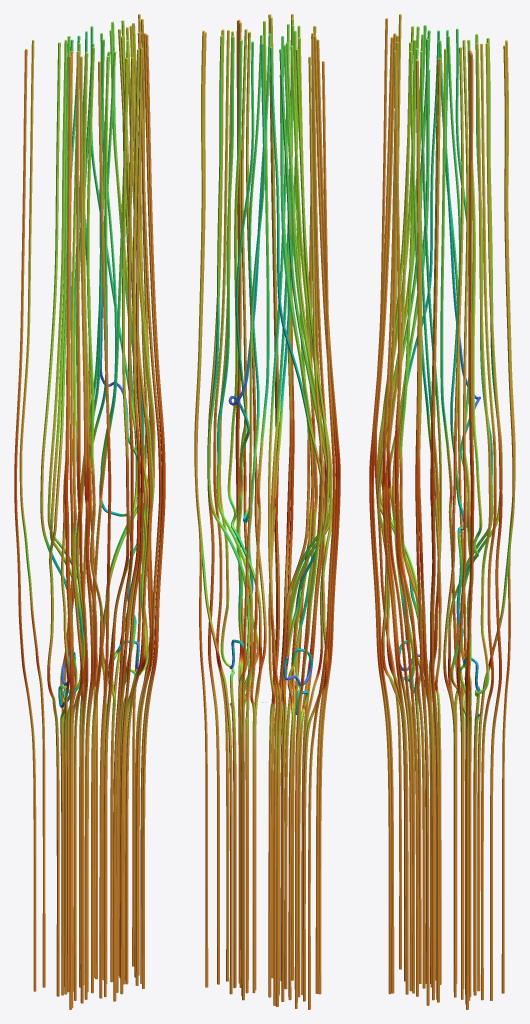
Rendered from Finales Auto Simulation.gltf.
3 renders of one model, left to right at view 1: azimuth 30°, elevation 25°; view 2: azimuth 150°, elevation 25°; view 3: azimuth 330°, elevation 25°, orthographic.
Parts seen in each view (by area): view 1: Renderer Node; view 2: Renderer Node; view 3: Renderer Node.
Part boxes in pixels (x1,y1,x2,y2): Renderer Node: (14,14,165,1009); Renderer Node: (194,14,340,1009); Renderer Node: (369,14,515,1009).
Bounding box in the file's own units: 0.0912 × 0.5999 × 0.0501.
Materials: 2 (2 with a texture image).
